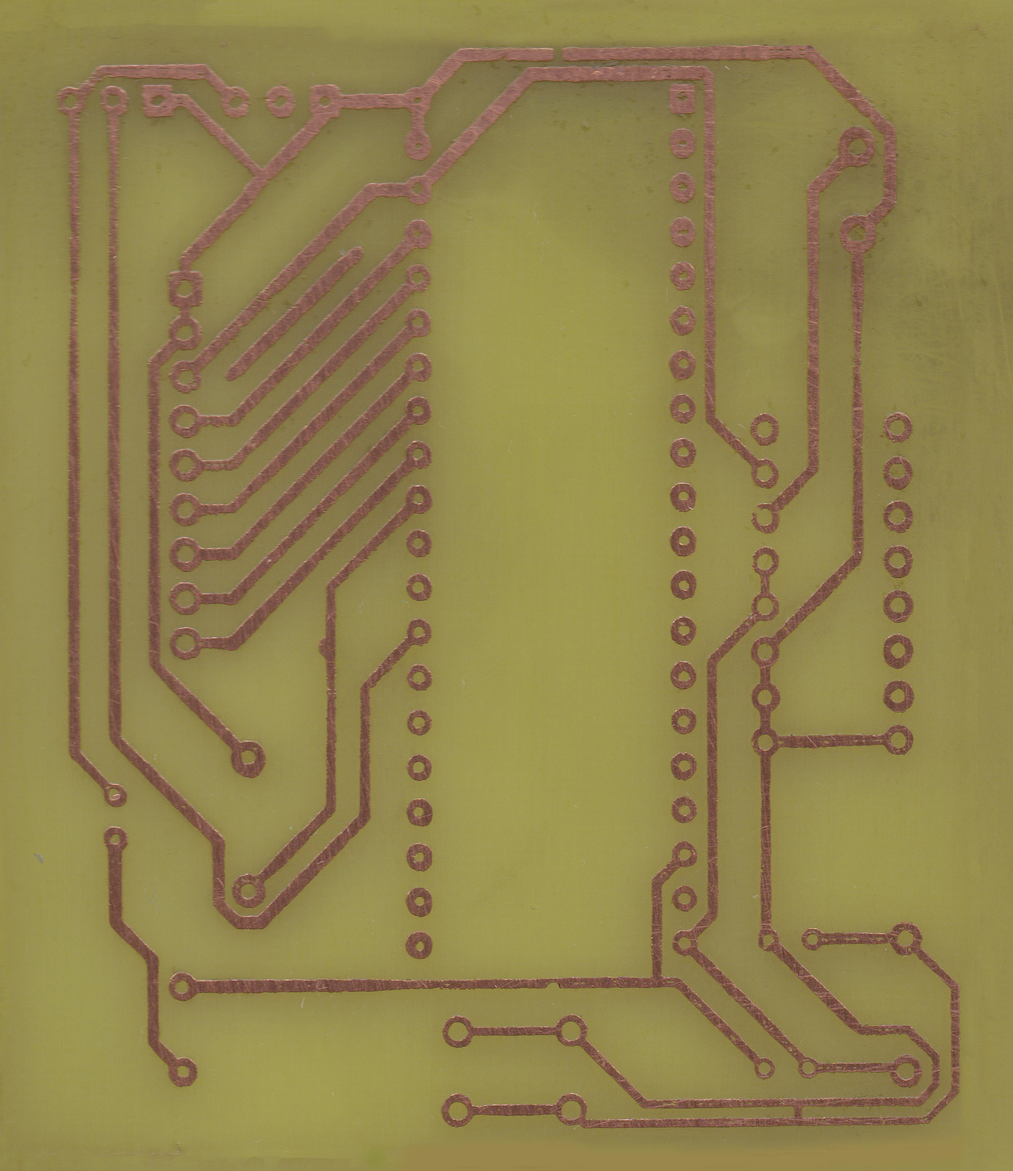missing_hole: (750, 501, 780, 534)
mouse_bite: (545, 976, 562, 991)
open_circuit: (544, 47, 571, 61)
short: (790, 1098, 806, 1127)
spur: (318, 637, 337, 660)
spurious_copper: (225, 247, 361, 385)
